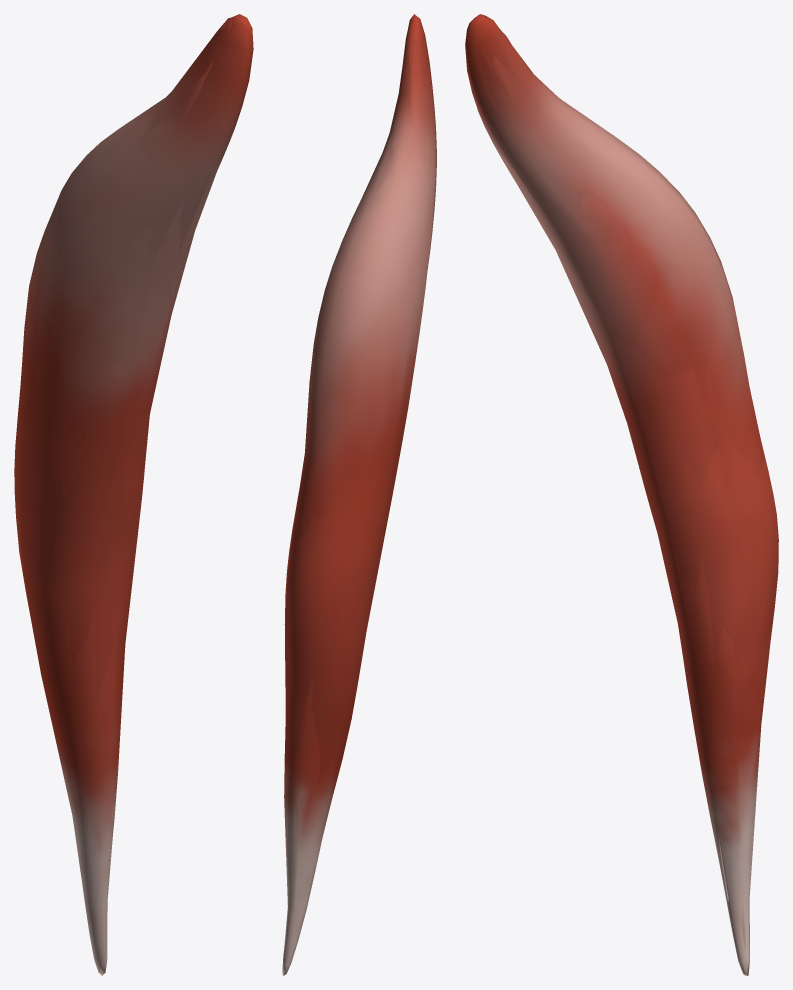
Rendered from L flexor carpi radialis.fbx.
3 renders of one model, left to right at view 1: azimuth 30°, elevation 25°; view 2: azimuth 150°, elevation 25°; view 3: azimuth 270°, elevation 25°, orthographic. The views are drawn at different scales.
Parts seen in each view (by area): view 1: L flexor carpi radialis, L flexor carpi radialis low; view 2: L flexor carpi radialis, L flexor carpi radialis low; view 3: L flexor carpi radialis, L flexor carpi radialis low.
Boxes of the visible parts, left/top/right/bottom form: L flexor carpi radialis: left=14, top=14, right=253, bottom=975; L flexor carpi radialis low: left=14, top=17, right=232, bottom=973; L flexor carpi radialis: left=282, top=14, right=436, bottom=975; L flexor carpi radialis low: left=284, top=21, right=434, bottom=961; L flexor carpi radialis: left=465, top=14, right=778, bottom=975; L flexor carpi radialis low: left=475, top=35, right=772, bottom=969.
Size of the model in its own units: 1.32 by 12.36 by 3.67.
